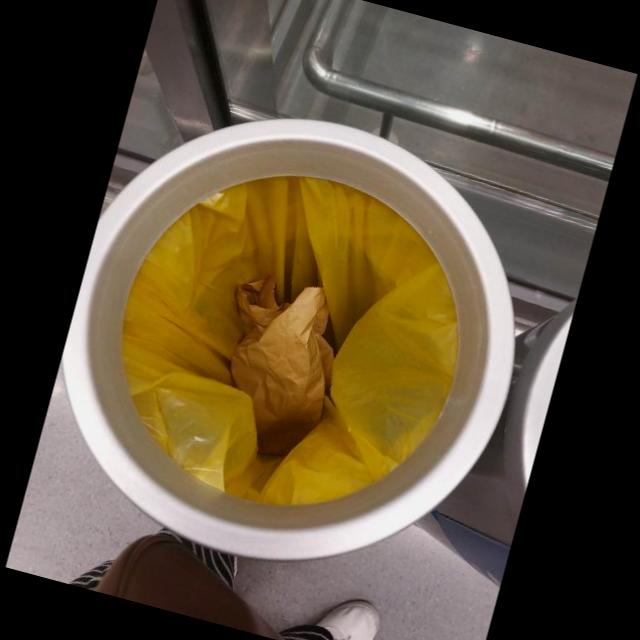giay: (229, 275, 334, 457)
